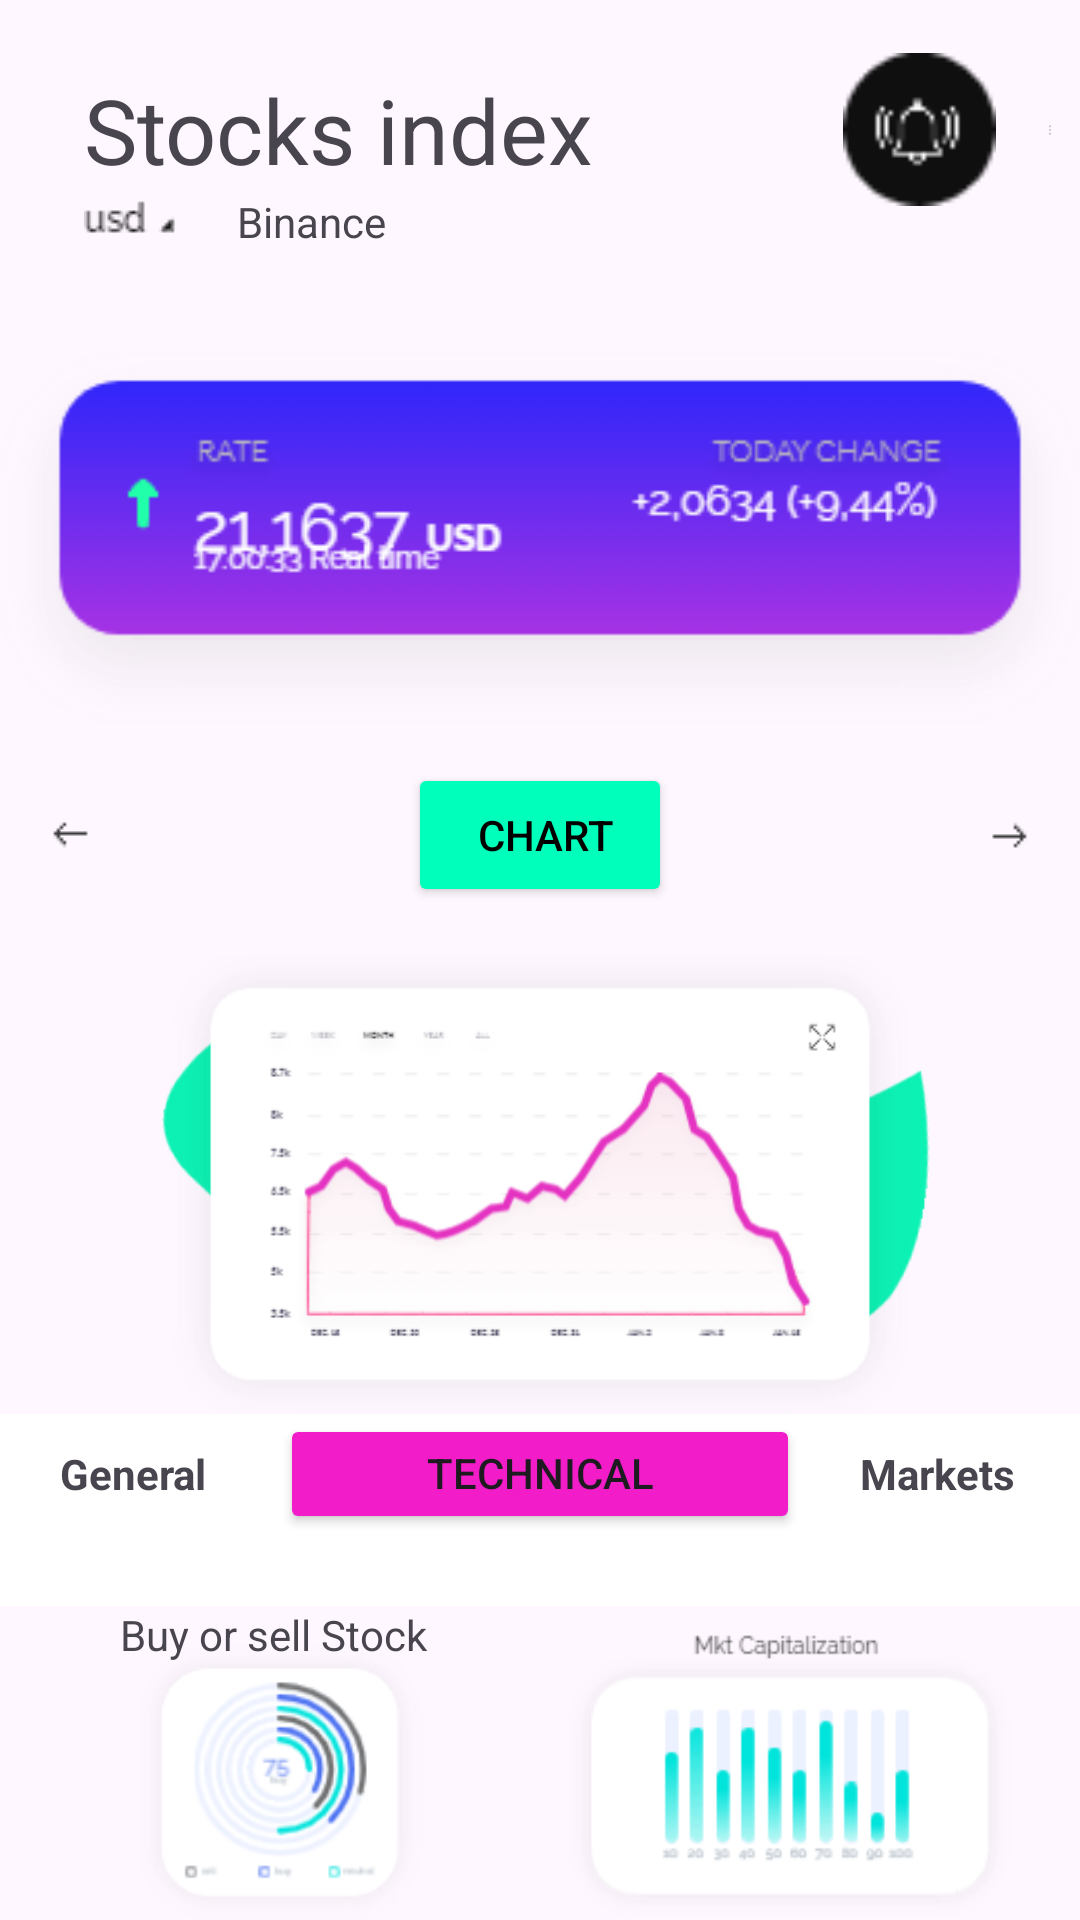

Where icons sit on this 1080×1920 app screen, as (x1, y1, x2, y2):
alerts: (843, 53, 996, 206)
lef: (53, 822, 88, 847)
